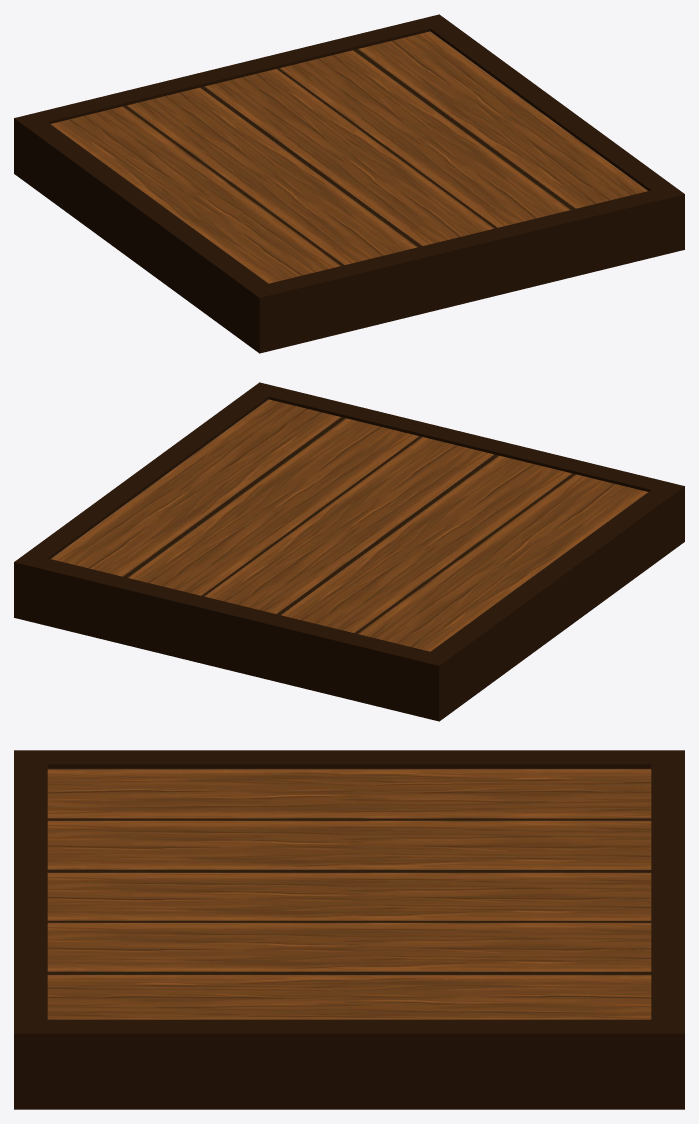
3 renders of one model, top to bottom at view 1: azimuth 30°, elevation 25°; view 2: azimuth 150°, elevation 25°; view 3: azimuth 270°, elevation 25°, orthographic. The views are drawn at different scales.
Parts seen in each view (by area): view 1: Cube; view 2: Cube; view 3: Cube.
Boxes of the visible parts, x1,y1,x2,y2 form: Cube: (14,14,684,353); Cube: (14,382,684,721); Cube: (14,750,684,1109).
Bounding box in the file's own units: 400 × 50 × 400.
1 material, 1 textured.
